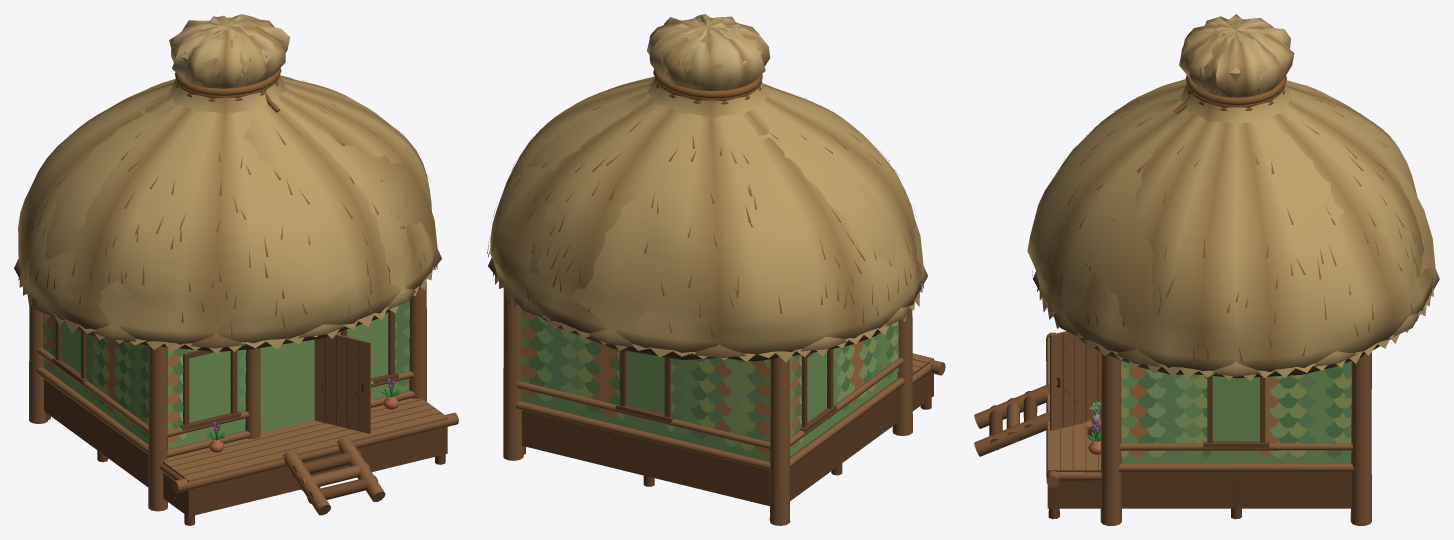
The model's file is hut_green.glb.
3 renders of one model, left to right at view 1: azimuth 30°, elevation 25°; view 2: azimuth 150°, elevation 25°; view 3: azimuth 270°, elevation 25°, orthographic. The views are drawn at different scales.
Visible parts, largest first — view 1: hut_green, hut_green_far; view 2: hut_green, hut_green_far; view 3: hut_green, hut_green_far.
Boxes of the visible parts, <box> form: hut_green: <box>18,14,458,525</box>; hut_green_far: <box>14,17,447,516</box>; hut_green: <box>487,14,945,525</box>; hut_green_far: <box>488,18,933,506</box>; hut_green: <box>974,14,1433,525</box>; hut_green_far: <box>1033,19,1439,508</box>.
Bounding box in the file's own units: 8.73 × 8.9 × 8.79.
